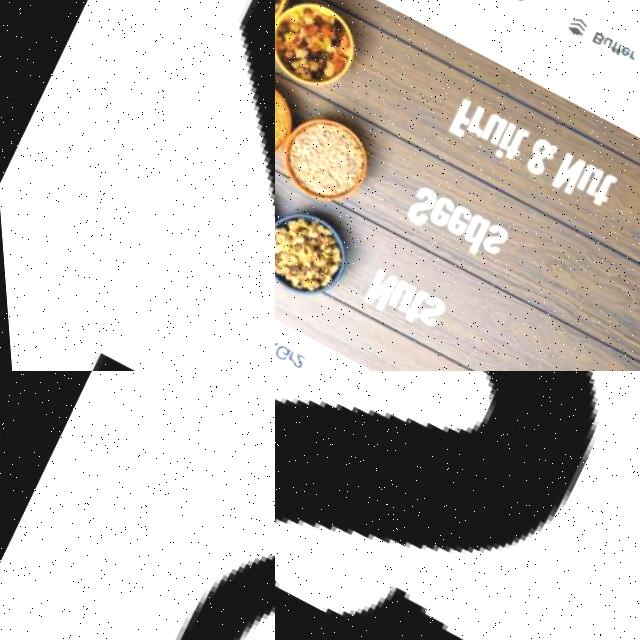B: (588, 31, 605, 48)
D: (452, 214, 488, 256)
E: (420, 195, 454, 230), (439, 204, 471, 238), (616, 46, 631, 60), (511, 0, 526, 4)
F: (442, 99, 477, 139), (606, 41, 618, 56), (610, 43, 622, 58)
G: (275, 343, 285, 364)
I: (488, 124, 515, 160)
N: (544, 153, 585, 197), (355, 268, 395, 311)
Q: (31, 398, 275, 640)
R: (462, 107, 490, 138), (279, 350, 291, 364), (625, 51, 637, 63)
S: (275, 371, 640, 640), (397, 184, 437, 231), (409, 295, 443, 331), (473, 223, 507, 258)
T: (584, 172, 615, 210), (394, 288, 425, 325), (497, 126, 527, 163)
U: (378, 278, 412, 314), (570, 164, 602, 198), (475, 113, 506, 146), (599, 37, 612, 50)
Z: (10, 0, 275, 371)
